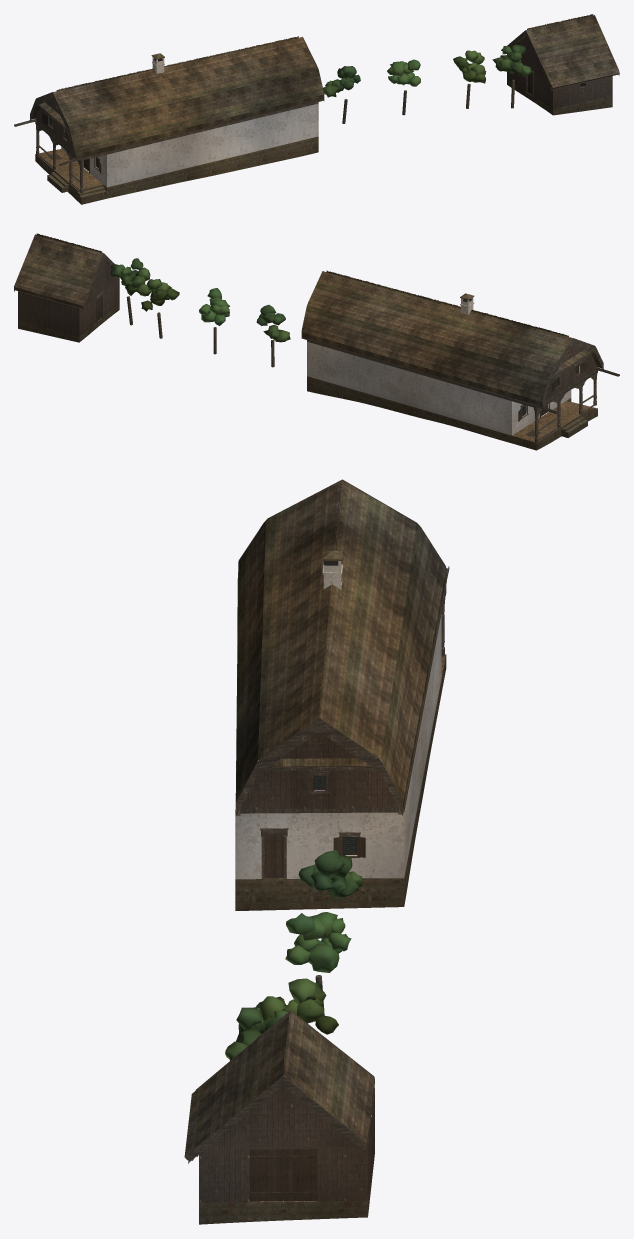
Rendered from dom15_lekki.glb.
The picture shows the model from 3 angles, top to bottom: view 1: azimuth 30°, elevation 25°; view 2: azimuth 150°, elevation 25°; view 3: azimuth 270°, elevation 25°; orthographic projection. The views are drawn at different scales.
Parts seen in each view (by area): view 1: Dom15_lekki; view 2: Dom15_lekki; view 3: Dom15_lekki.
Boxes of the visible parts, x1,y1,x2,y2 form: Dom15_lekki: (14,14,619,204); Dom15_lekki: (14,233,619,450); Dom15_lekki: (184,479,449,1224).
Size of the model in its own units: 52.27 by 12.02 by 10.96.
11 materials, 9 textured.
